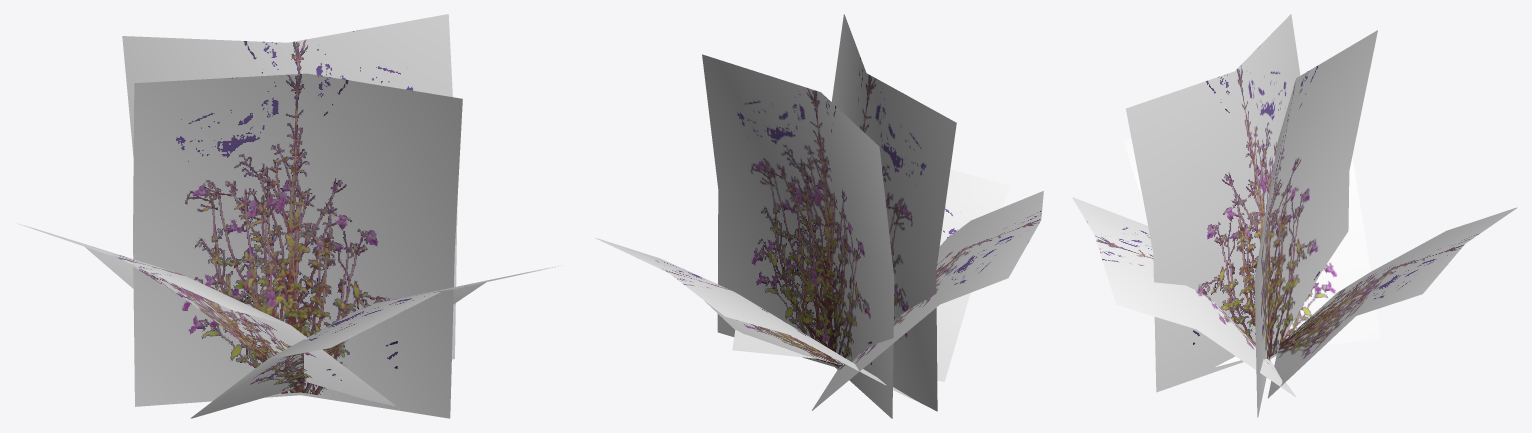
The model's file is grassweed05.fbx.
3 renders of one model, left to right at view 1: azimuth 30°, elevation 25°; view 2: azimuth 150°, elevation 25°; view 3: azimuth 270°, elevation 25°, orthographic. The views are drawn at different scales.
Visible parts, largest first — view 1: grassweed05; view 2: grassweed05; view 3: grassweed05.
Part boxes in pixels (bbox=[...]): grassweed05: bbox=[17, 14, 557, 418]; grassweed05: bbox=[595, 14, 1043, 418]; grassweed05: bbox=[1072, 14, 1517, 417].
Size of the model in its own units: 85.33 by 62.12 by 89.18.
